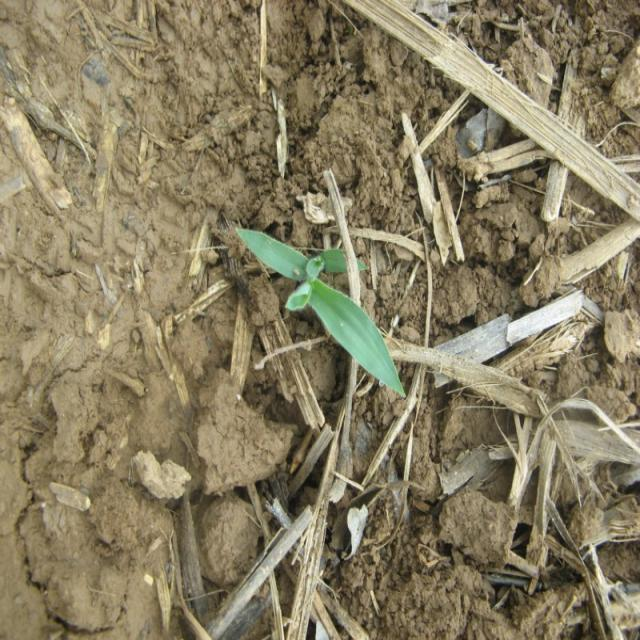bg: (230, 222, 411, 399)
